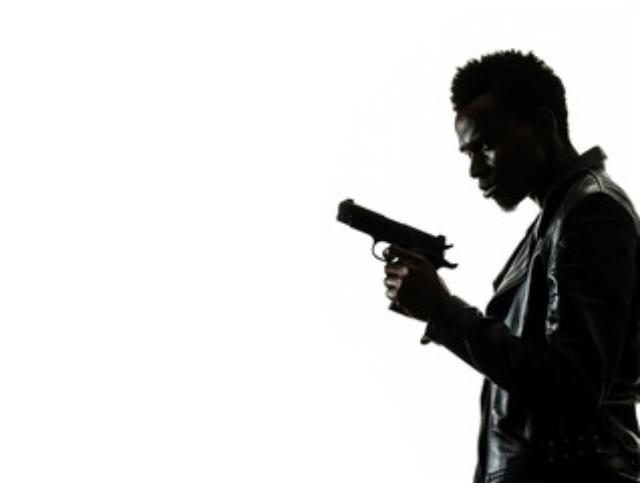pistol: (328, 192, 456, 310)
